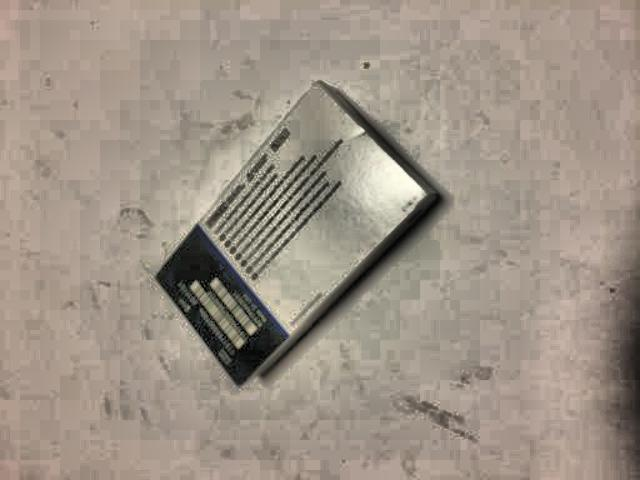Paper: (119, 62, 451, 391)
